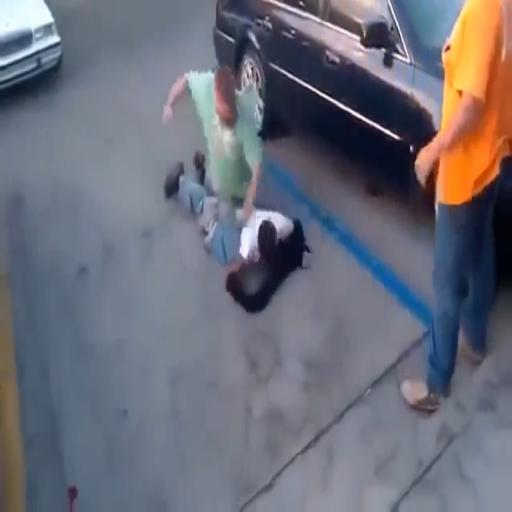violencia: (154, 41, 320, 326)
